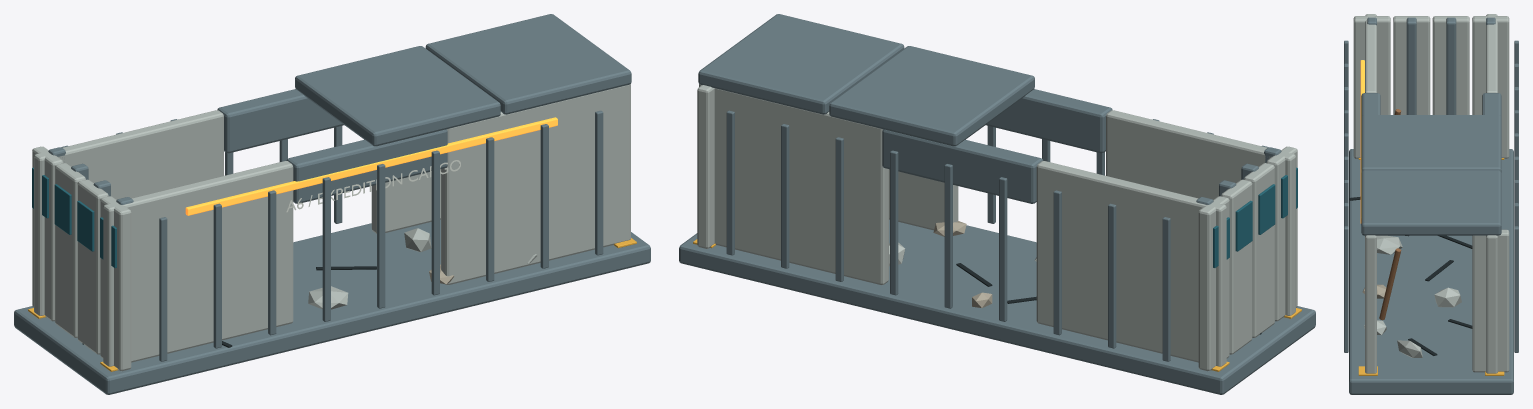
File: logistics_container_d2.glb
The picture shows the model from 3 angles, left to right: view 1: azimuth 30°, elevation 25°; view 2: azimuth 150°, elevation 25°; view 3: azimuth 270°, elevation 25°; orthographic projection. The views are drawn at different scales.
Parts seen in each view (by area): view 1: Foundation.030, End bulkhead.079, End bulkhead.078, Removable roof segment.058, Removable roof segment.059, End bulkhead.080, Door header.034, Door header.035, Side pressure panel.131, Side pressure panel.132, Side pressure panel.133, Zone identity stripe.017 (+15 smaller); view 2: Foundation.030, End bulkhead.080, End bulkhead.081, Removable roof segment.058, Removable roof segment.059, End bulkhead.078, Door header.035, Door header.034, Side pressure panel.134, Side pressure panel.133, Side pressure panel.132, Side pressure panel.135 (+13 smaller); view 3: Foundation.030, Removable roof segment.059, Removable roof segment.058, Side pressure panel.135, Side pressure panel.133, Side pressure panel.132, Side pressure panel.134, Side pressure panel.131, End bulkhead.079, End bulkhead.081, External armor rib.132, External armor rib.133 (+11 smaller).
Boxes of the visible parts, x1=… form: Foundation.030: x1=14, y1=219, x2=650, y2=394; End bulkhead.079: x1=441, y1=84, x2=630, y2=285; End bulkhead.078: x1=103, y1=161, x2=293, y2=366; Removable roof segment.058: x1=295, y1=46, x2=500, y2=146; Removable roof segment.059: x1=425, y1=14, x2=631, y2=114; End bulkhead.080: x1=34, y1=110, x2=223, y2=315; Door header.034: x1=286, y1=129, x2=447, y2=203; Door header.035: x1=217, y1=89, x2=344, y2=153; Side pressure panel.131: x1=100, y1=196, x2=131, y2=371; Side pressure panel.132: x1=77, y1=179, x2=108, y2=354; Side pressure panel.133: x1=55, y1=163, x2=85, y2=337; Zone identity stripe.017: x1=185, y1=117, x2=557, y2=215; Foundation.030: x1=679, y1=219, x2=1315, y2=394; End bulkhead.080: x1=1036, y1=161, x2=1226, y2=366; End bulkhead.081: x1=699, y1=84, x2=888, y2=285; Removable roof segment.058: x1=829, y1=46, x2=1034, y2=146; Removable roof segment.059: x1=698, y1=14, x2=904, y2=114; End bulkhead.078: x1=1106, y1=110, x2=1295, y2=315; Door header.035: x1=882, y1=129, x2=1043, y2=203; Door header.034: x1=985, y1=89, x2=1112, y2=153; Side pressure panel.134: x1=1198, y1=196, x2=1229, y2=371; Side pressure panel.133: x1=1221, y1=179, x2=1252, y2=354; Side pressure panel.132: x1=1244, y1=163, x2=1274, y2=337; Side pressure panel.135: x1=697, y1=85, x2=714, y2=248; Foundation.030: x1=1349, y1=149, x2=1513, y2=394; Removable roof segment.059: x1=1361, y1=170, x2=1501, y2=235; Removable roof segment.058: x1=1361, y1=115, x2=1501, y2=172; Side pressure panel.135: x1=1472, y1=229, x2=1509, y2=372; Side pressure panel.133: x1=1432, y1=16, x2=1469, y2=114; Side pressure panel.132: x1=1393, y1=16, x2=1430, y2=114; Side pressure panel.134: x1=1472, y1=16, x2=1509, y2=158; Side pressure panel.131: x1=1353, y1=16, x2=1390, y2=158; End bulkhead.079: x1=1365, y1=235, x2=1376, y2=373; End bulkhead.081: x1=1486, y1=235, x2=1497, y2=373; External armor rib.132: x1=1406, y1=17, x2=1416, y2=114; External armor rib.133: x1=1446, y1=17, x2=1456, y2=114.
Bounding box in the file's own units: 10 × 3.35 × 3.18.
